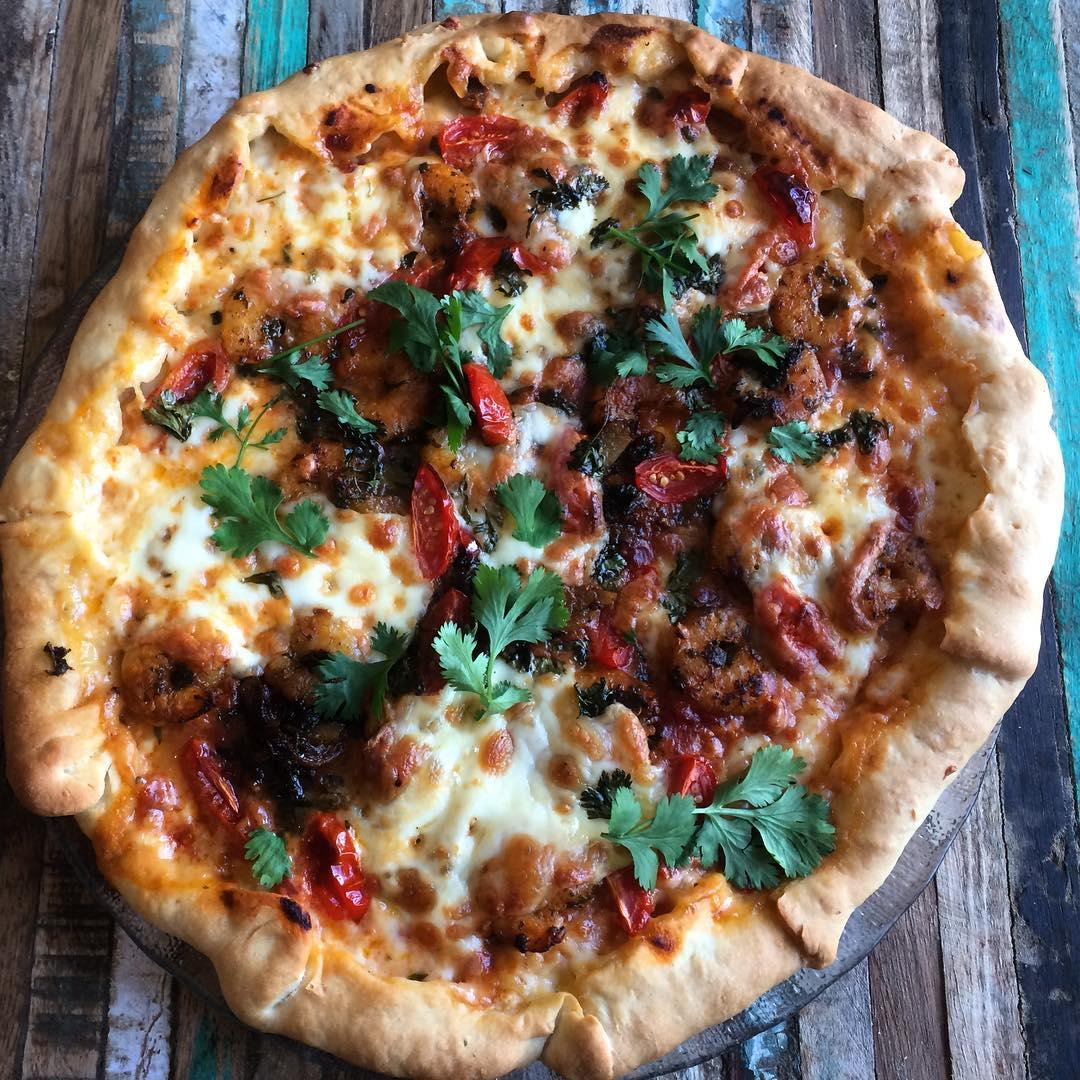Mushroom: (544, 348, 680, 483), (841, 506, 942, 634), (316, 325, 433, 431), (114, 621, 225, 722), (475, 834, 561, 951), (678, 603, 768, 711), (783, 253, 873, 361), (275, 596, 373, 695)
Pizza: (0, 10, 1067, 1080)
Tomatoes: (576, 559, 658, 675), (295, 810, 377, 925), (760, 583, 845, 680), (175, 732, 249, 840), (744, 162, 826, 256), (408, 459, 465, 588), (148, 341, 242, 417), (416, 234, 547, 287), (657, 714, 721, 807), (425, 111, 527, 166), (631, 445, 728, 501), (459, 366, 514, 443), (755, 666, 803, 732), (658, 84, 721, 126), (557, 65, 611, 107)
